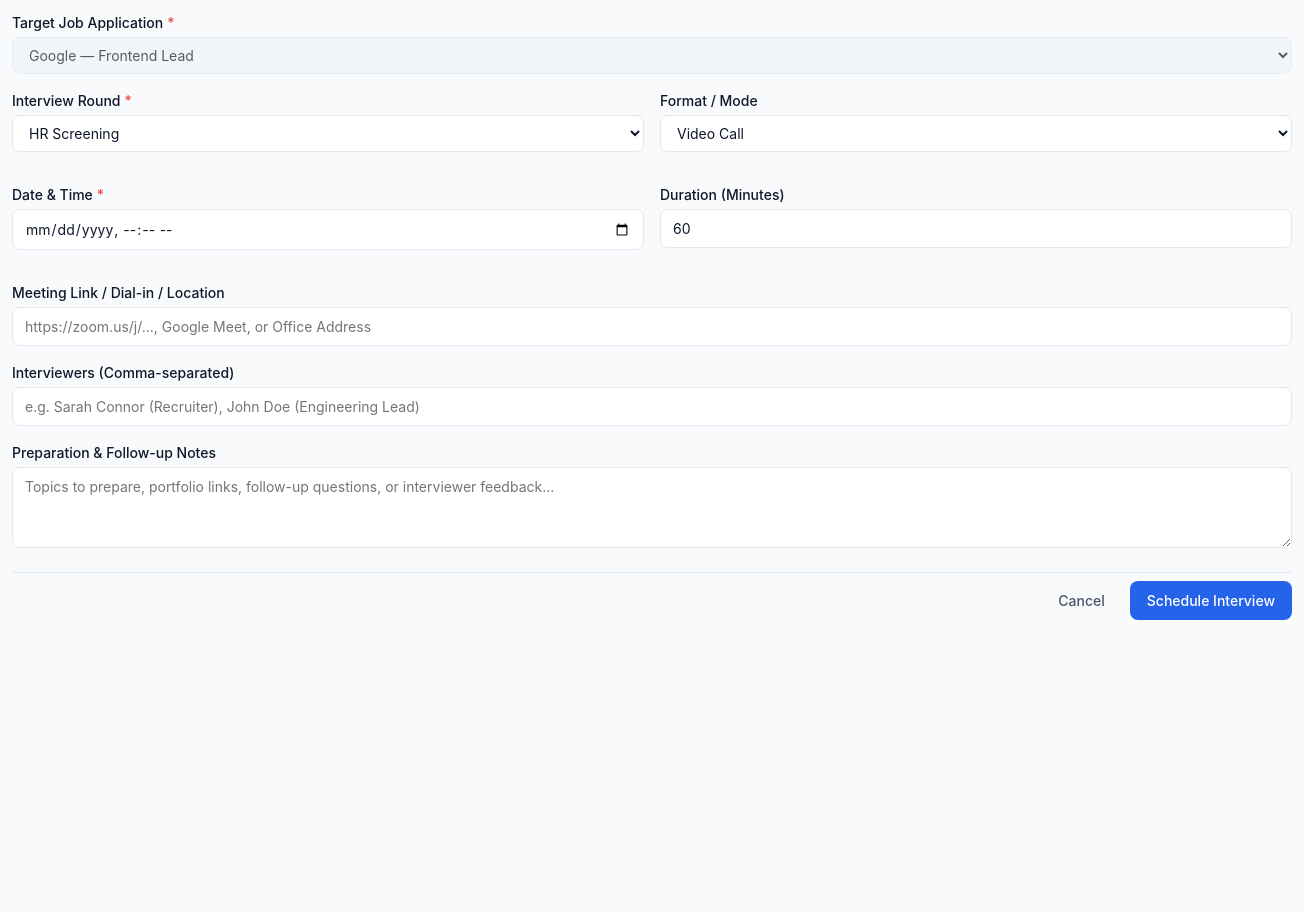
Test: InterviewForm Component (Phase 6.5E) › validates duration bounds (15 to 480 minutes)
Replace the text in the number field labelled "Duration (Minutes)" with "10": [976, 228] box [660,209,1292,248]
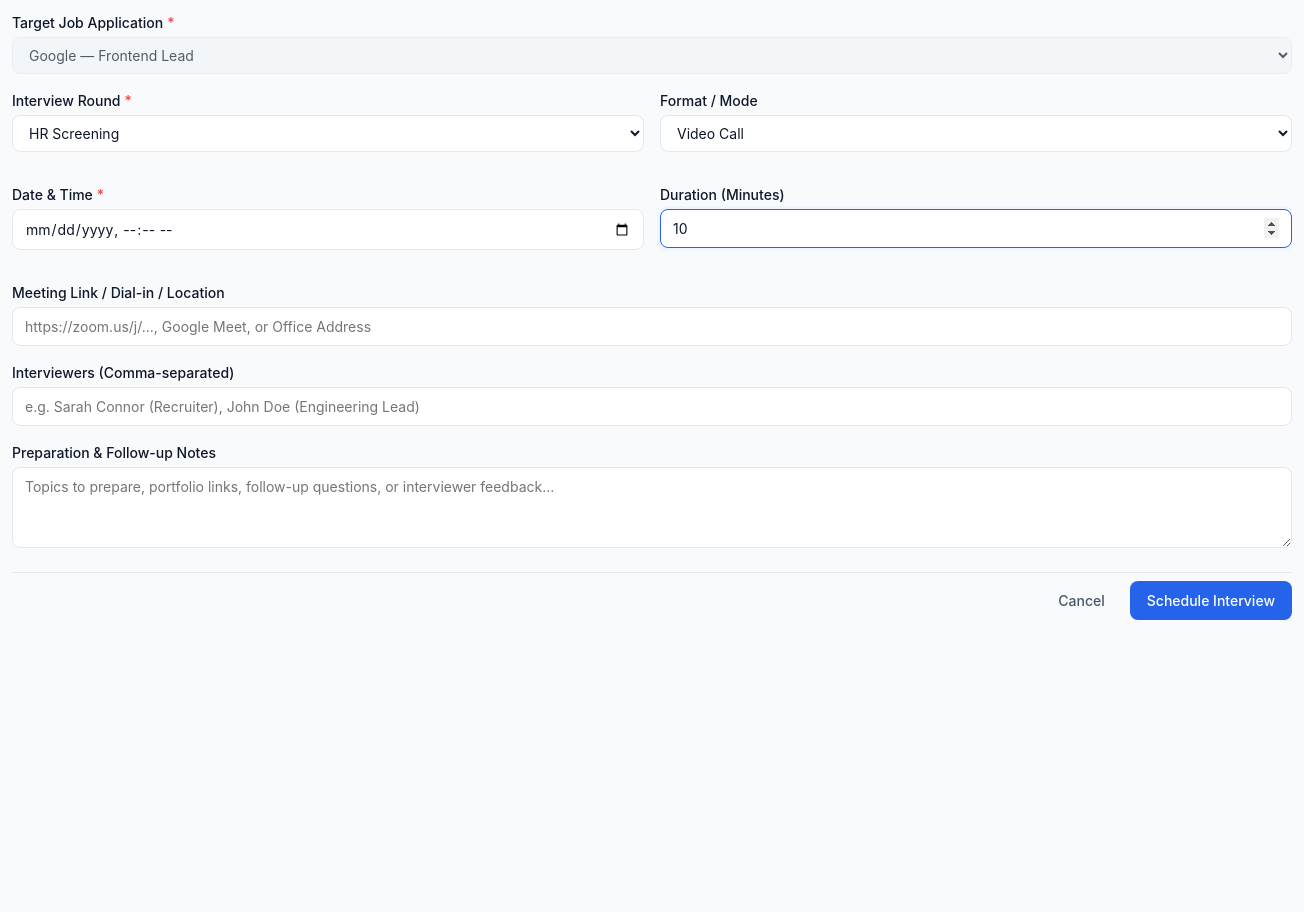
In the field labelled "Date & Time *": [328, 230] box [12,209,644,250], type "2026-10-30T10:00"
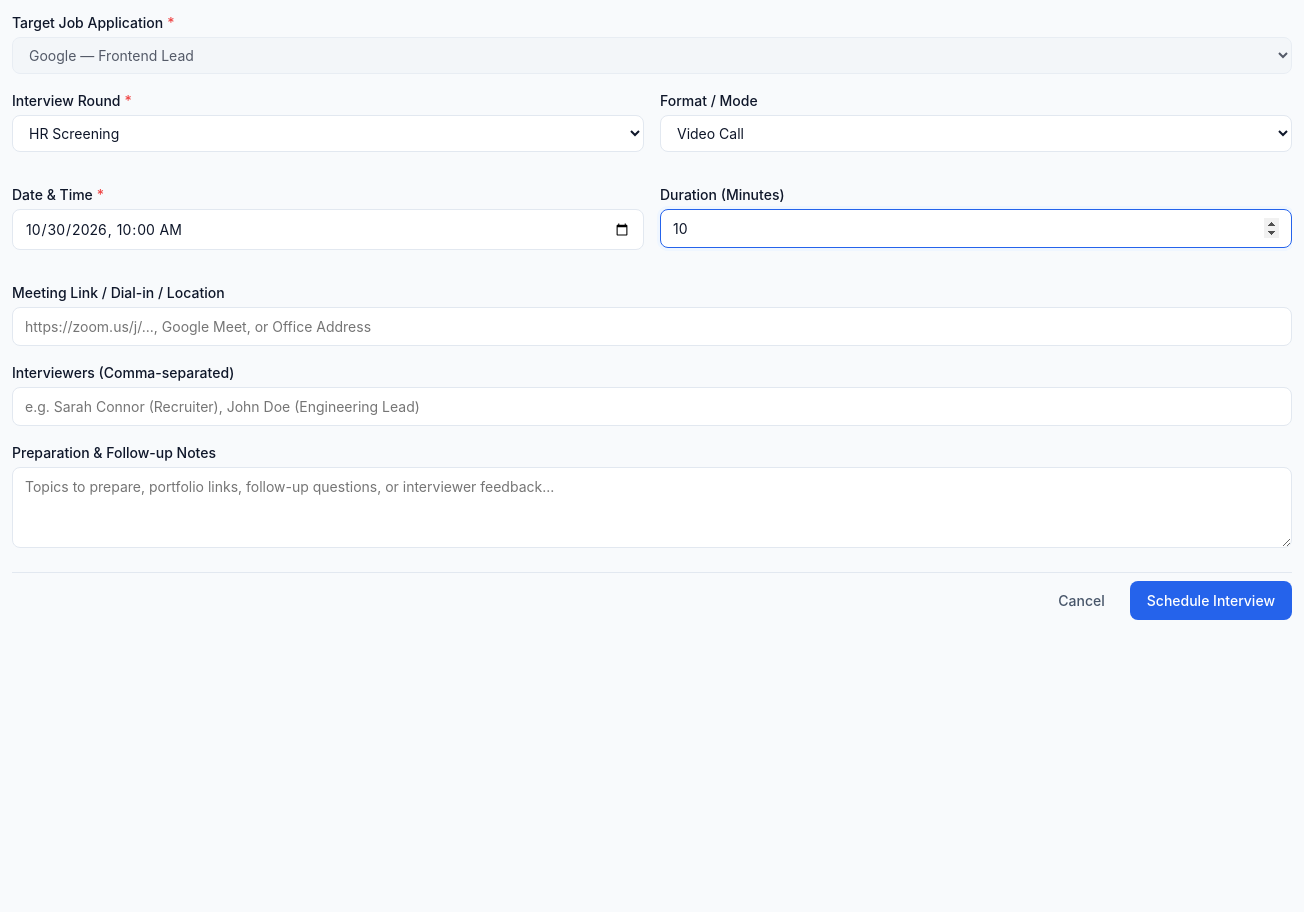
Click the button "Schedule Interview": [1211, 600] box [1130,581,1292,620]
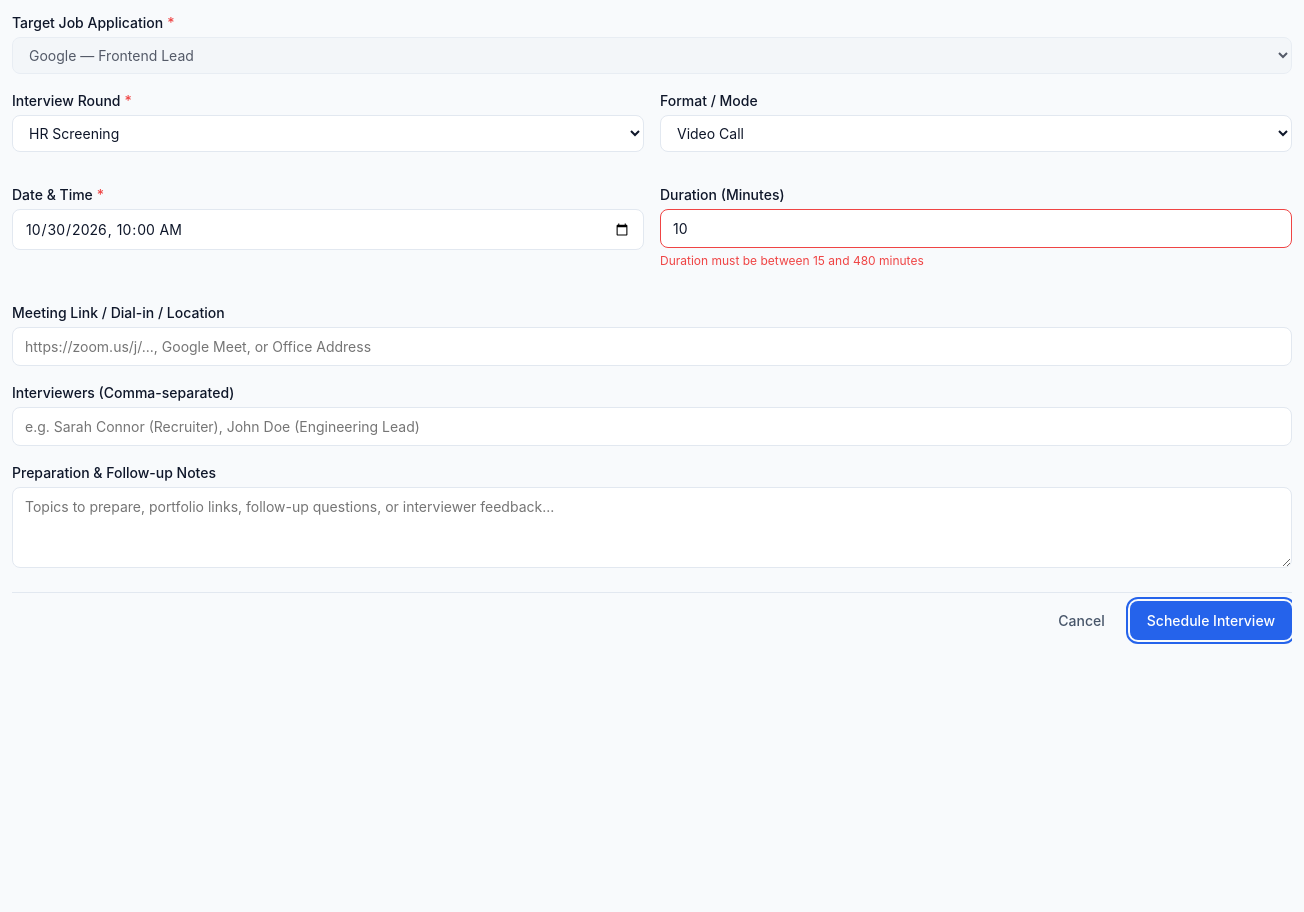
Expected: the text "Duration must be between 15 and 480 minutes" is shown, [660,253,924,268]
